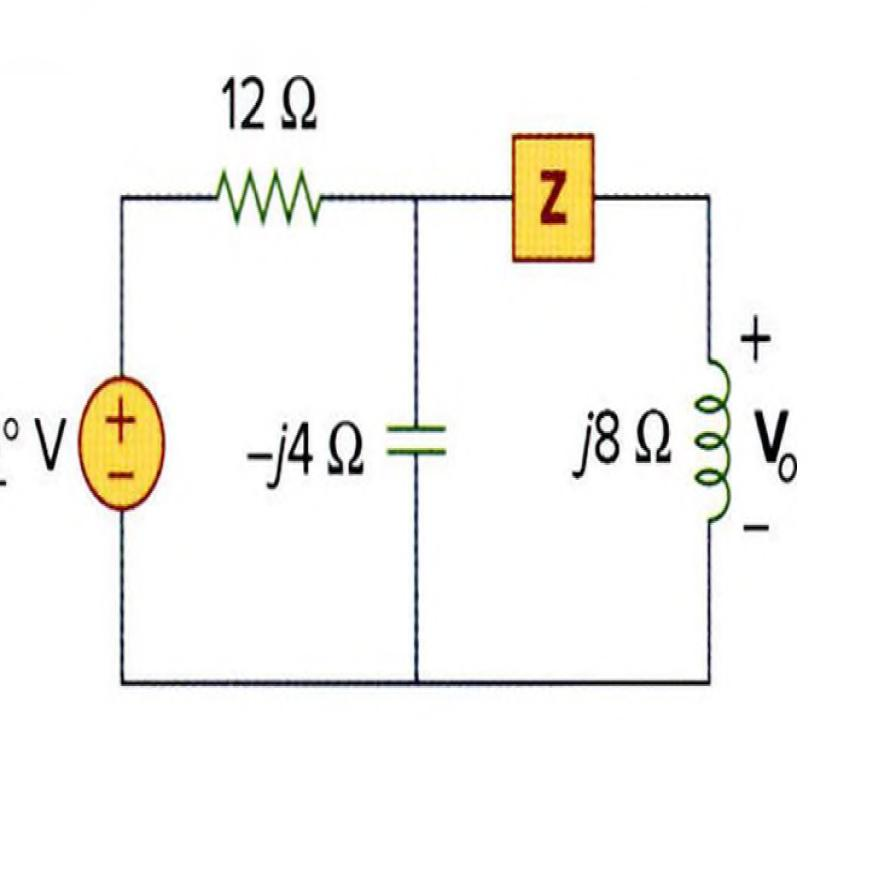C2: (374, 402, 458, 479)
L2: (679, 315, 741, 559)
